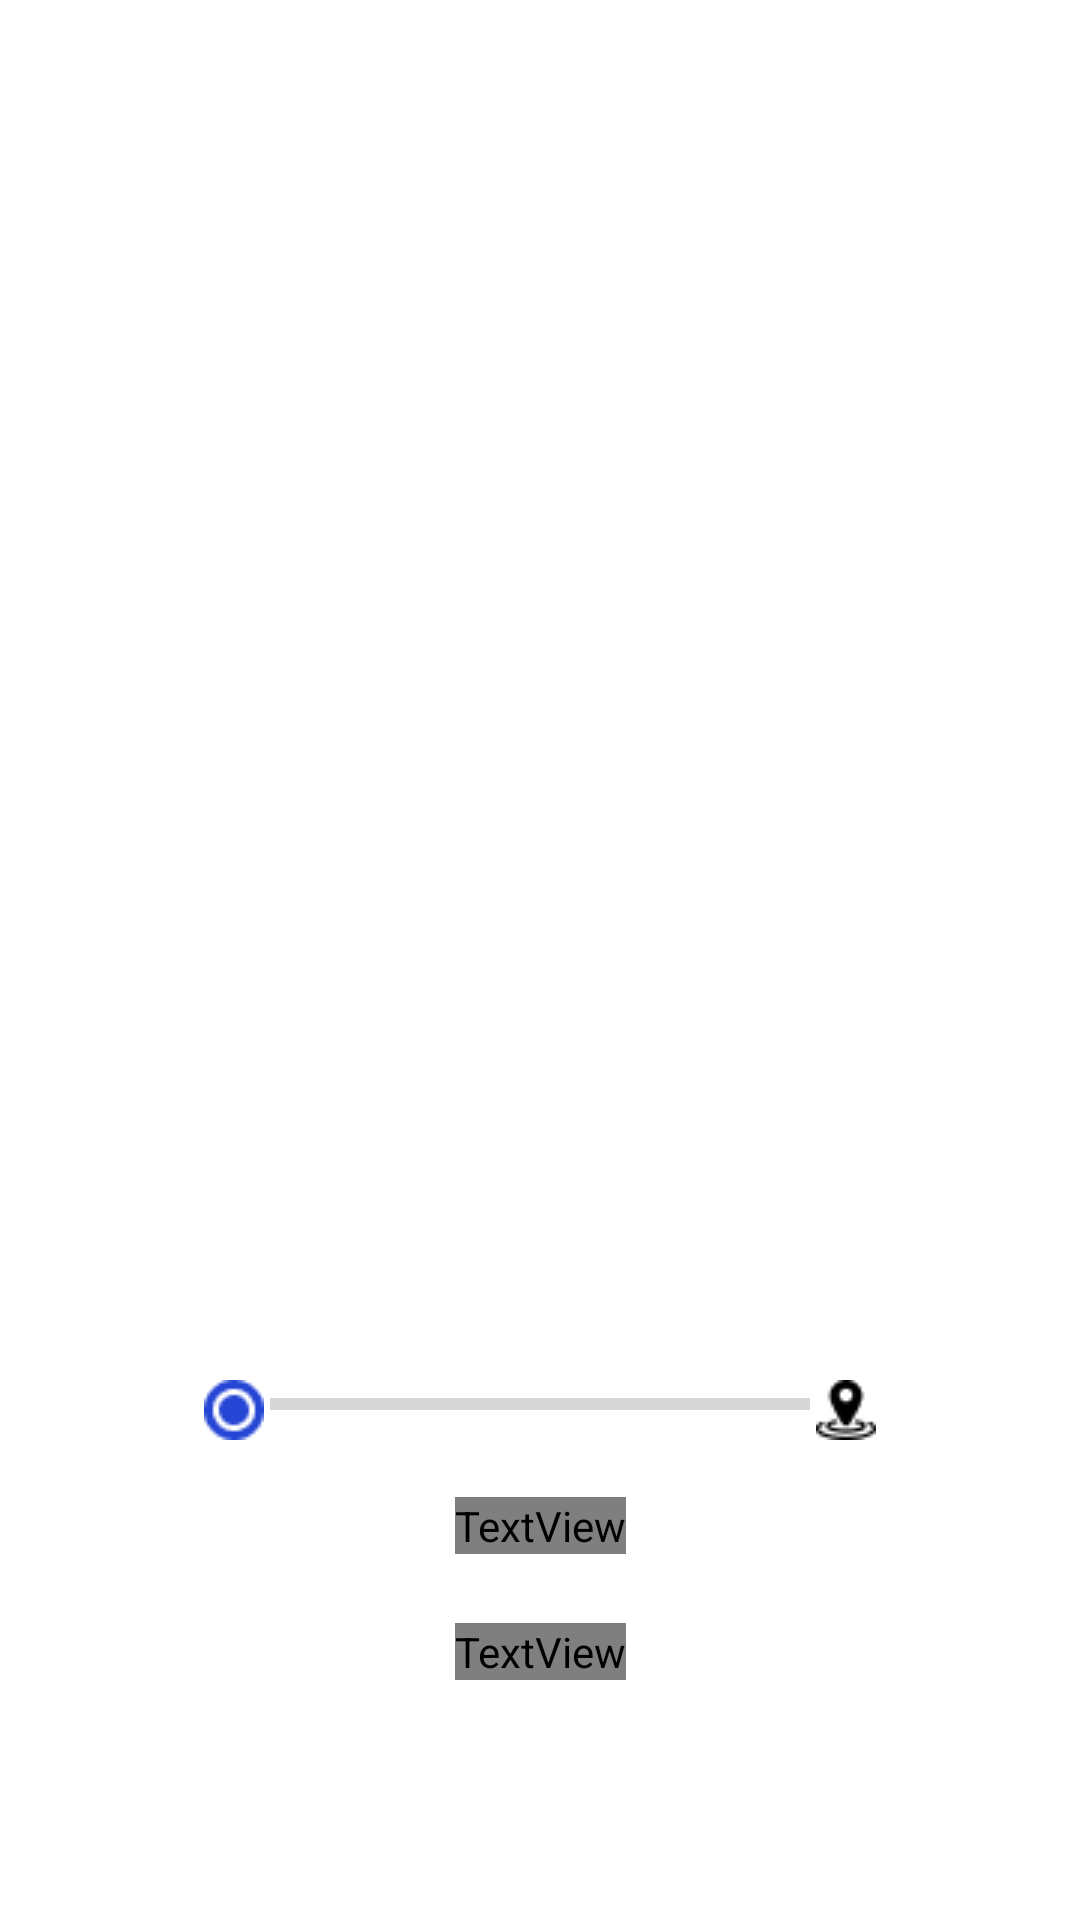

Icons on this 1080w x 1920h Android screen, each with the point to tap as [x,y]:
location: [846,1410]
